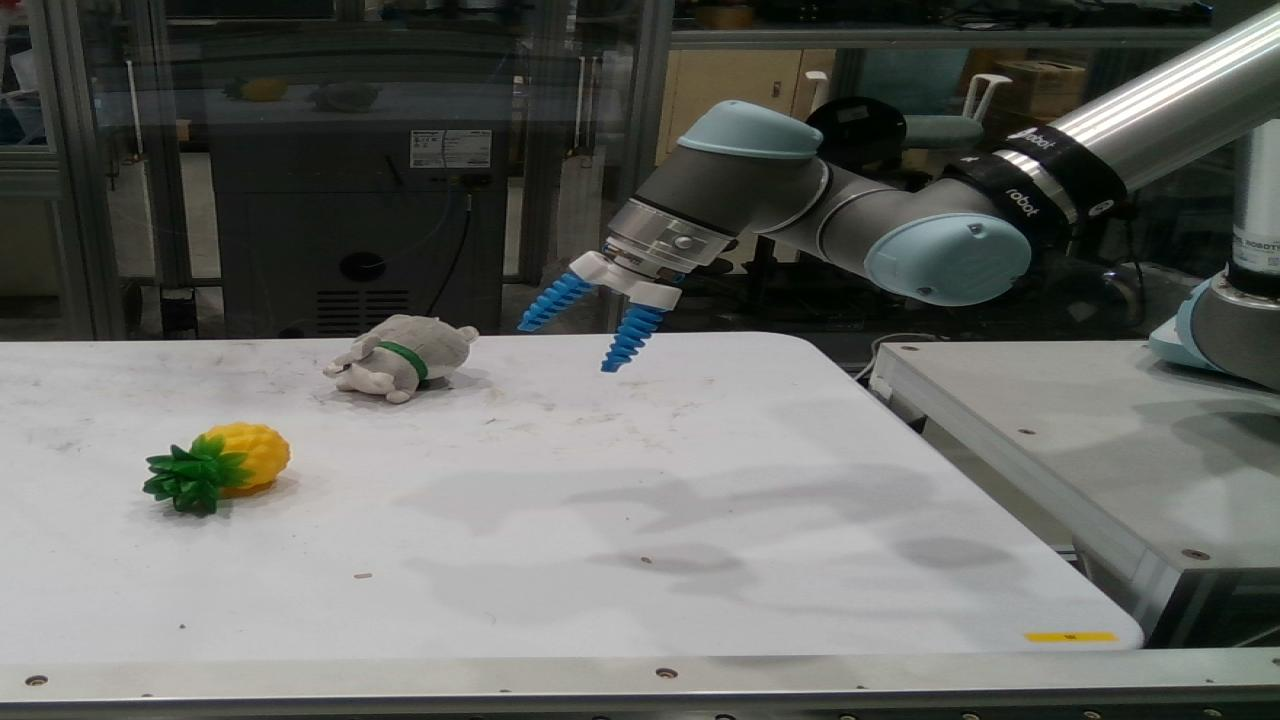UR5: (568, 5, 1276, 387)
gripper_left: (522, 273, 588, 332)
gripper_right: (606, 307, 660, 371)
target: (324, 316, 476, 404), (146, 424, 286, 514)
